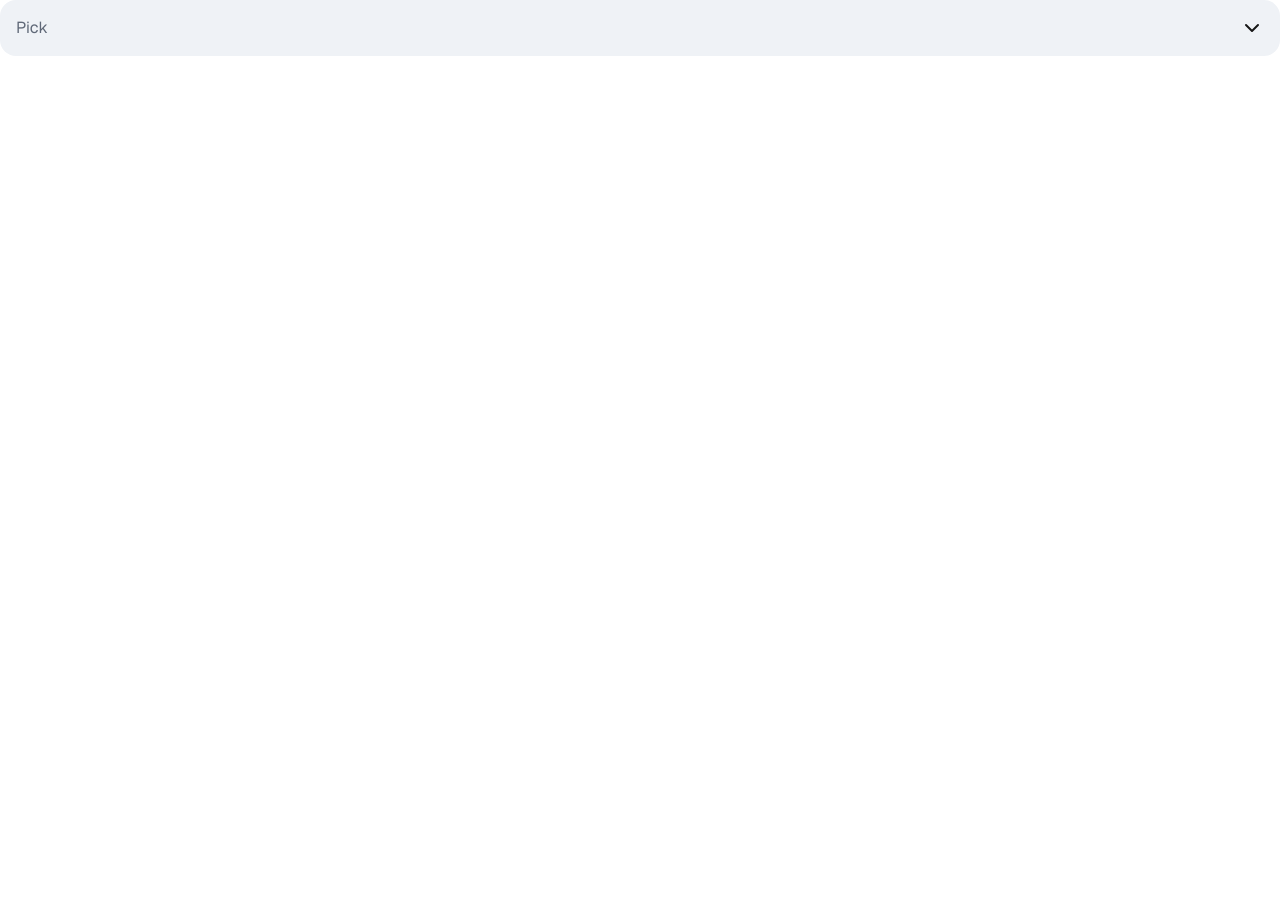
Scenario: Selector on a phone › a single choice closes the sheet by itself; a multiple one waits for Apply
Earlier steps of the test are not shown.
Later steps or results of the test are not shown.
Click the dropdown.
click(32, 28)  # box [16,2,1264,54]
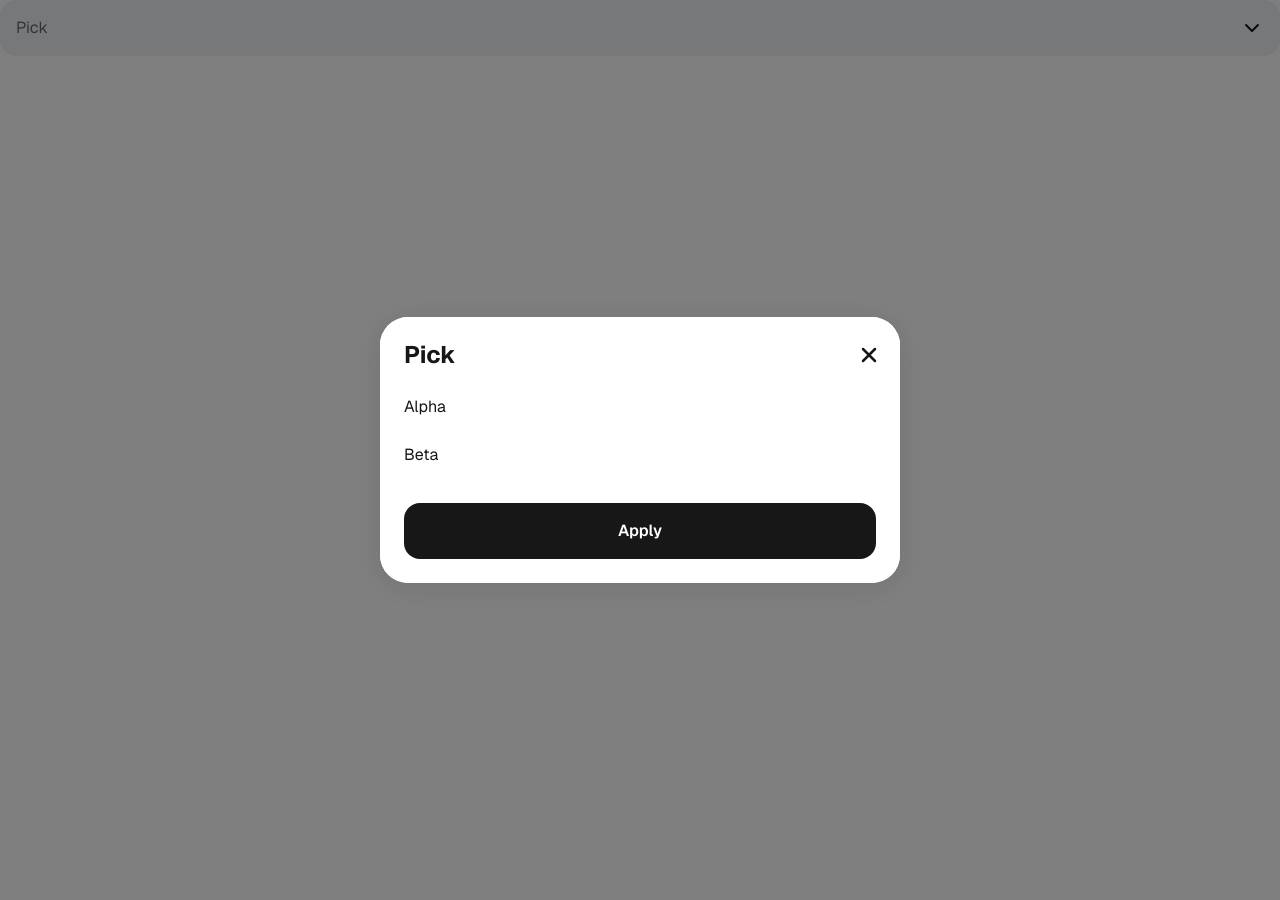
Click the option "Alpha".
click(425, 406)  # box [396,383,884,431]
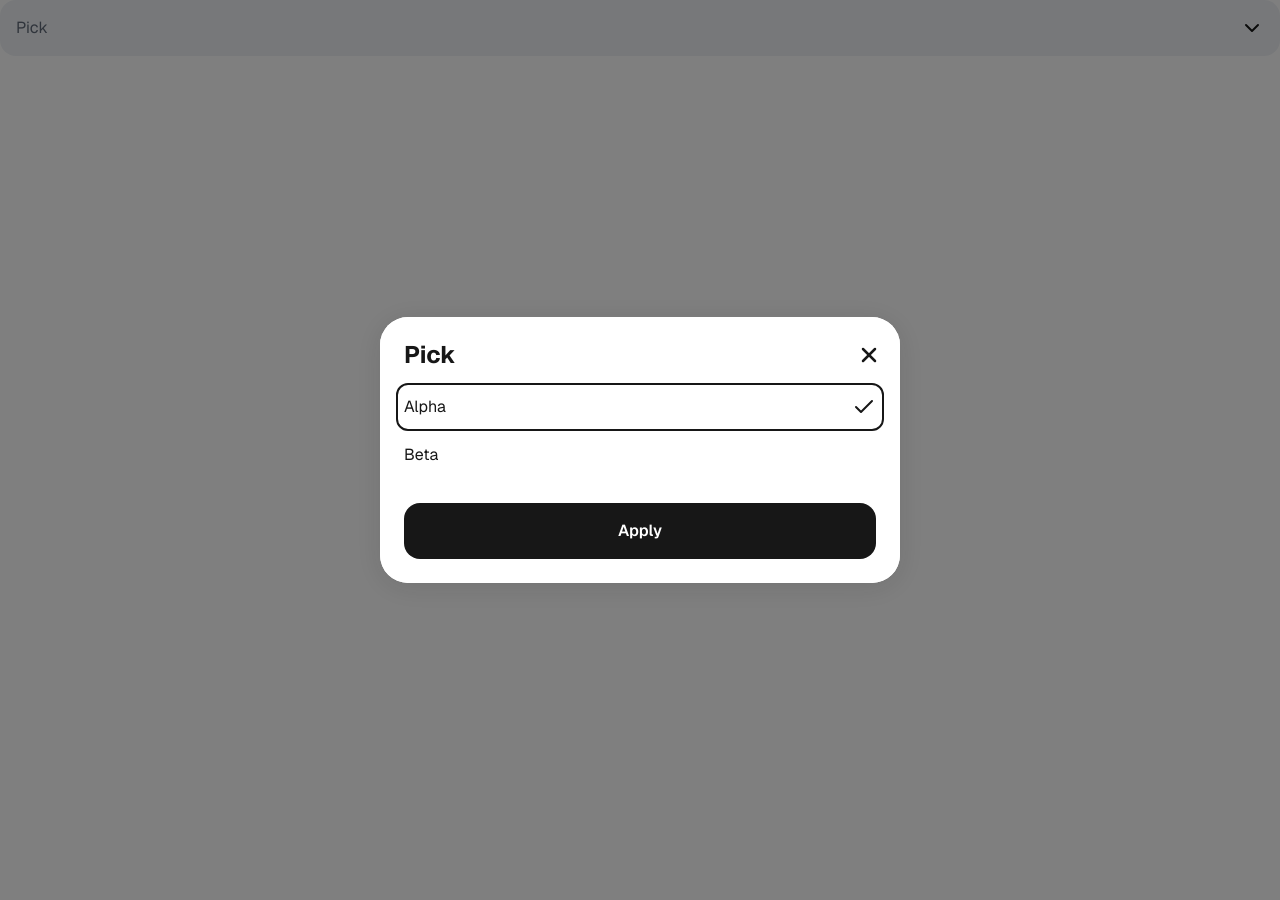
Now the option "Alpha" is shown, box [396,383,884,431]
